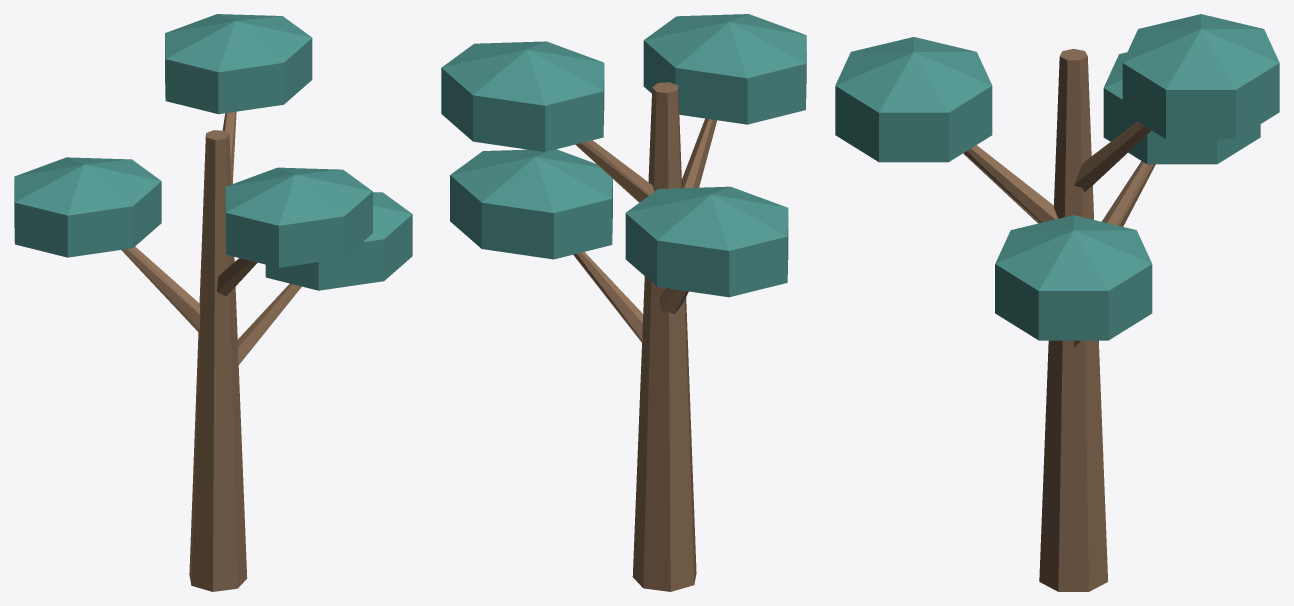
File: Nature_Alien_Tree_01.glb
3 views of the same model, side by side, from view 1: azimuth 30°, elevation 25°; view 2: azimuth 150°, elevation 25°; view 3: azimuth 270°, elevation 25° (orthographic). The views are drawn at different scales.
Parts seen in each view (by area): view 1: Nature_Alien_Tree_01; view 2: Nature_Alien_Tree_01; view 3: Nature_Alien_Tree_01.
Boxes of the visible parts, bbox=[...] form: Nature_Alien_Tree_01: bbox=[14, 14, 412, 591]; Nature_Alien_Tree_01: bbox=[441, 14, 806, 591]; Nature_Alien_Tree_01: bbox=[835, 14, 1279, 591].
Bounding box in the file's own units: 1.43 × 2.03 × 1.38.
